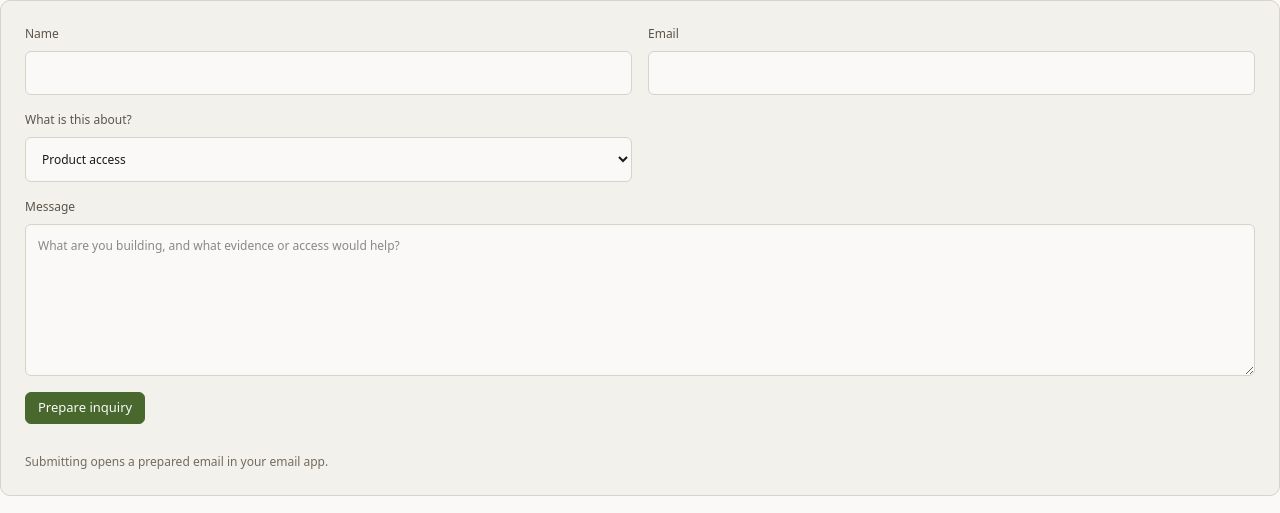
Test: contact form: a 400 from the server renders the server's own reason, not a generic failure
Step 1. Type "Ada" into the field labelled "Name" → (328, 73), box [25,51,632,95]
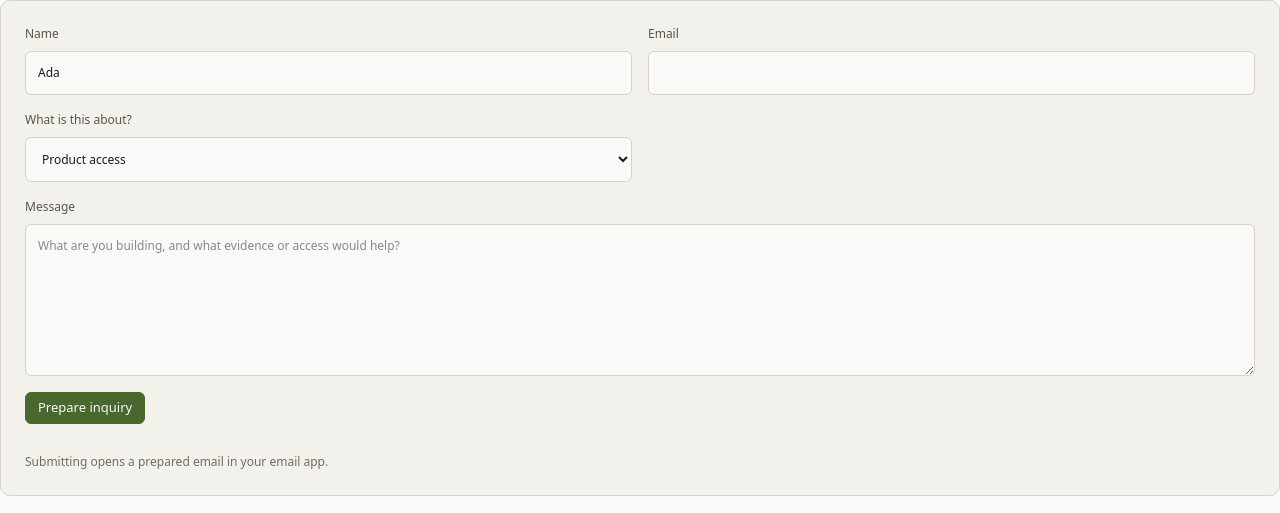
Step 2. Type "not-an-email" into the field labelled "Email" → (952, 73), box [648,51,1255,95]
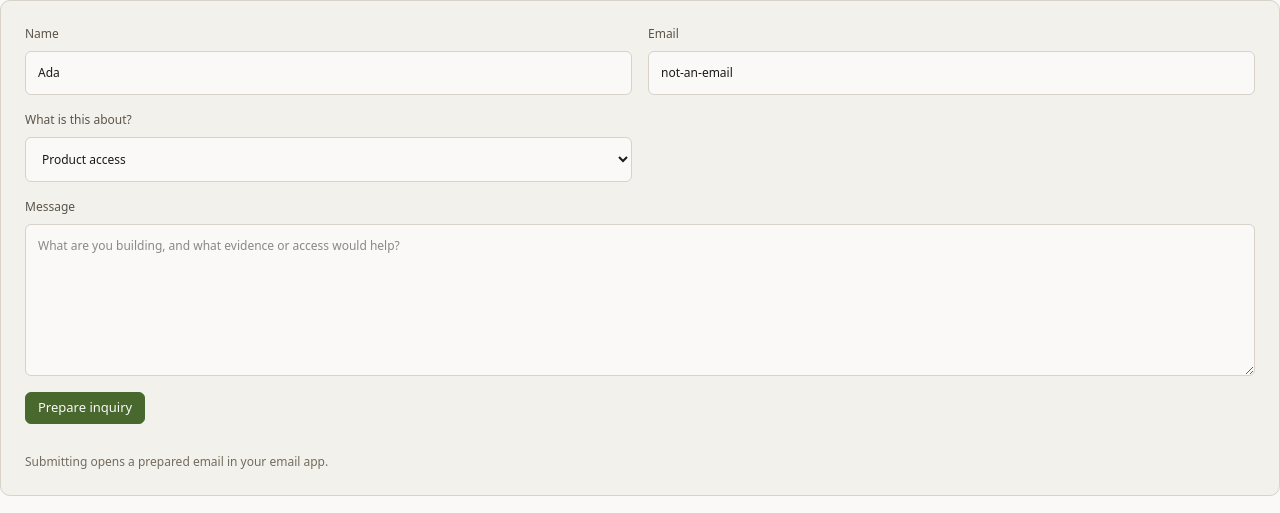
Step 3. Replace the text in the text box labelled "Message" with "Hi" → (640, 300), box [25,224,1255,376]
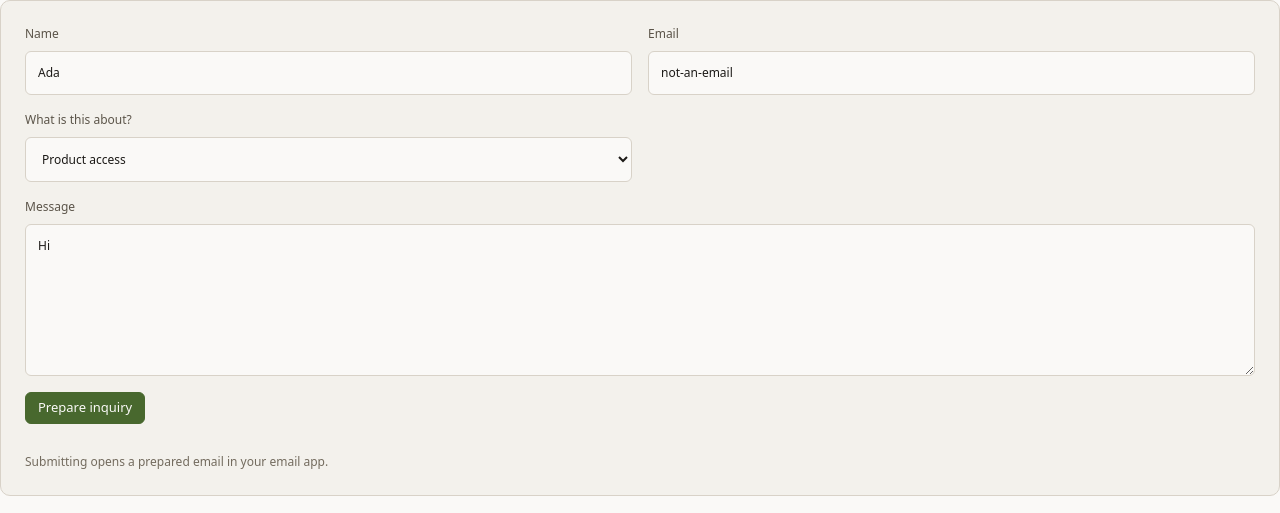
Step 4. Submit the form
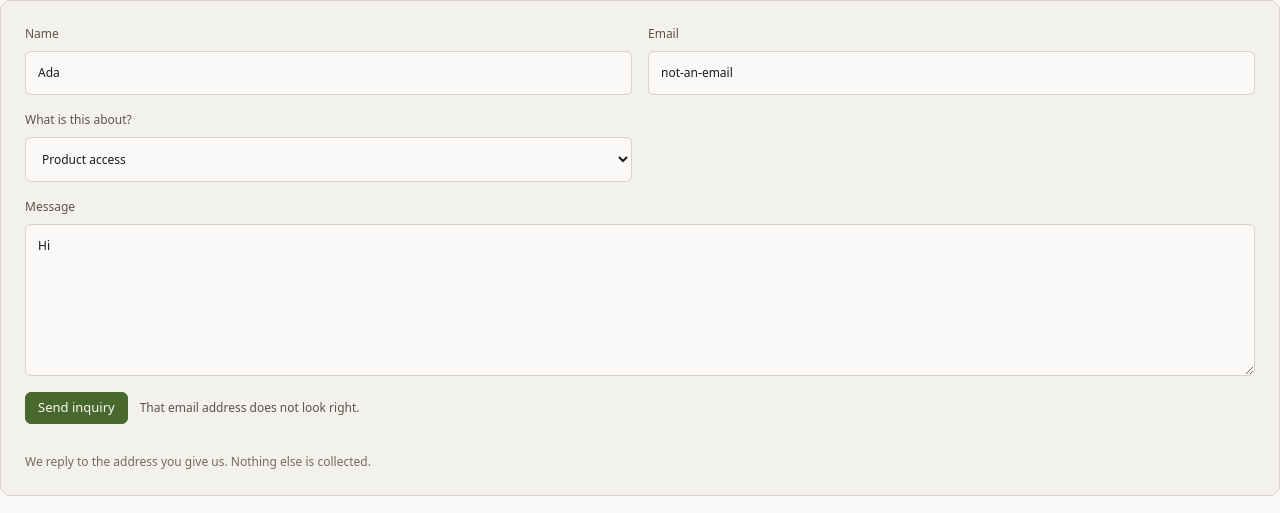
Now the message reads "That email address does not look right.", box [140,399,360,416]
